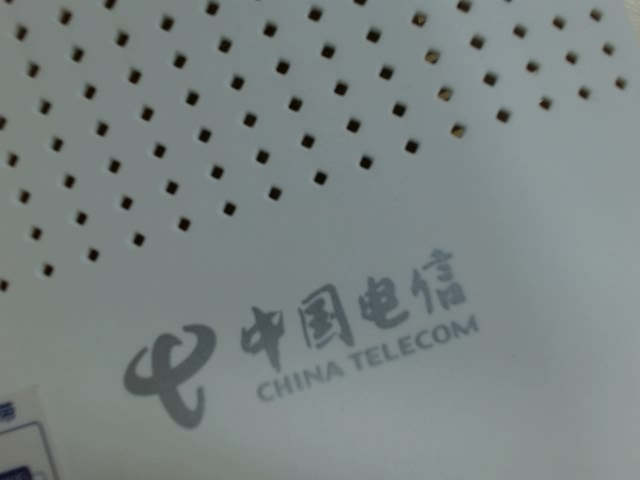AB_ChinaTelecom: (75, 243, 505, 441)
